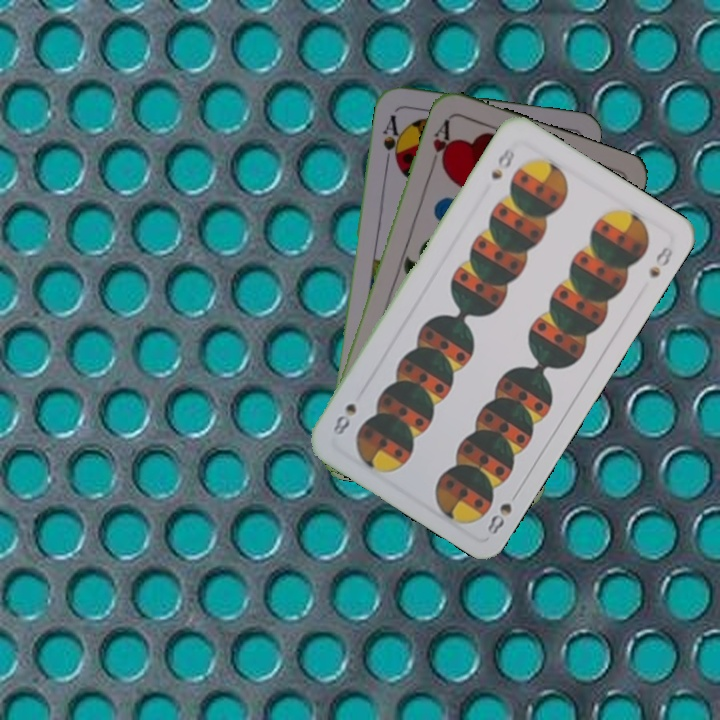HA: (426, 115, 455, 172)
S8: (483, 485, 523, 537), (486, 143, 518, 183)
SA: (378, 111, 405, 168)
